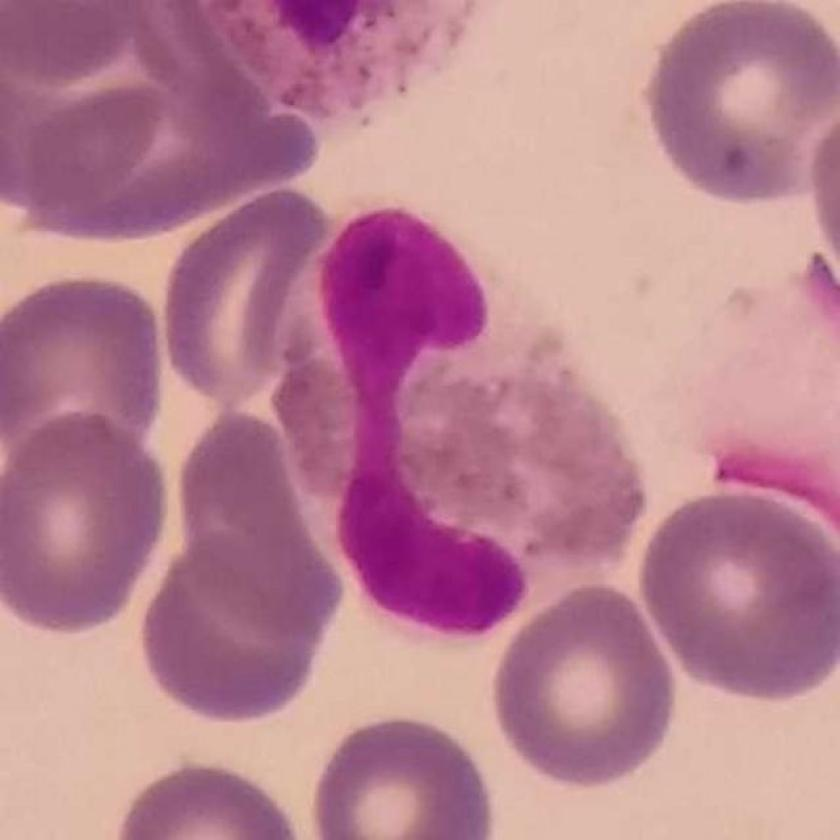eosinophil: (270, 211, 652, 649)
